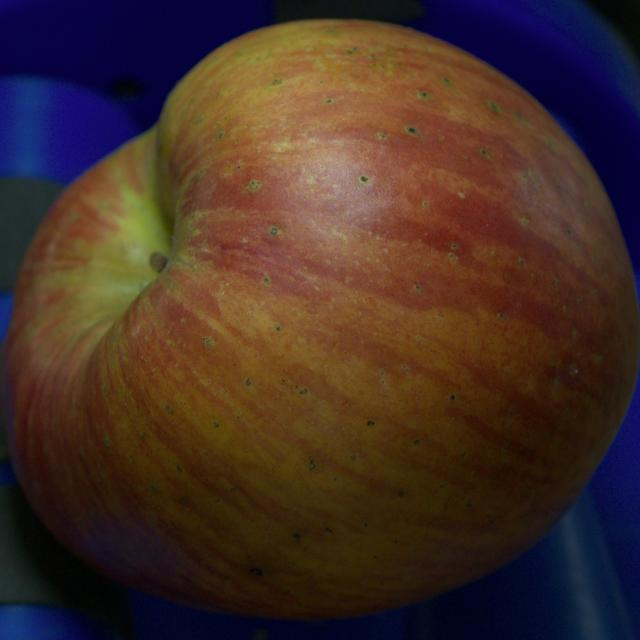apple: (0, 19, 639, 618)
pest: (250, 568, 262, 574), (406, 127, 415, 132), (361, 176, 368, 182)
